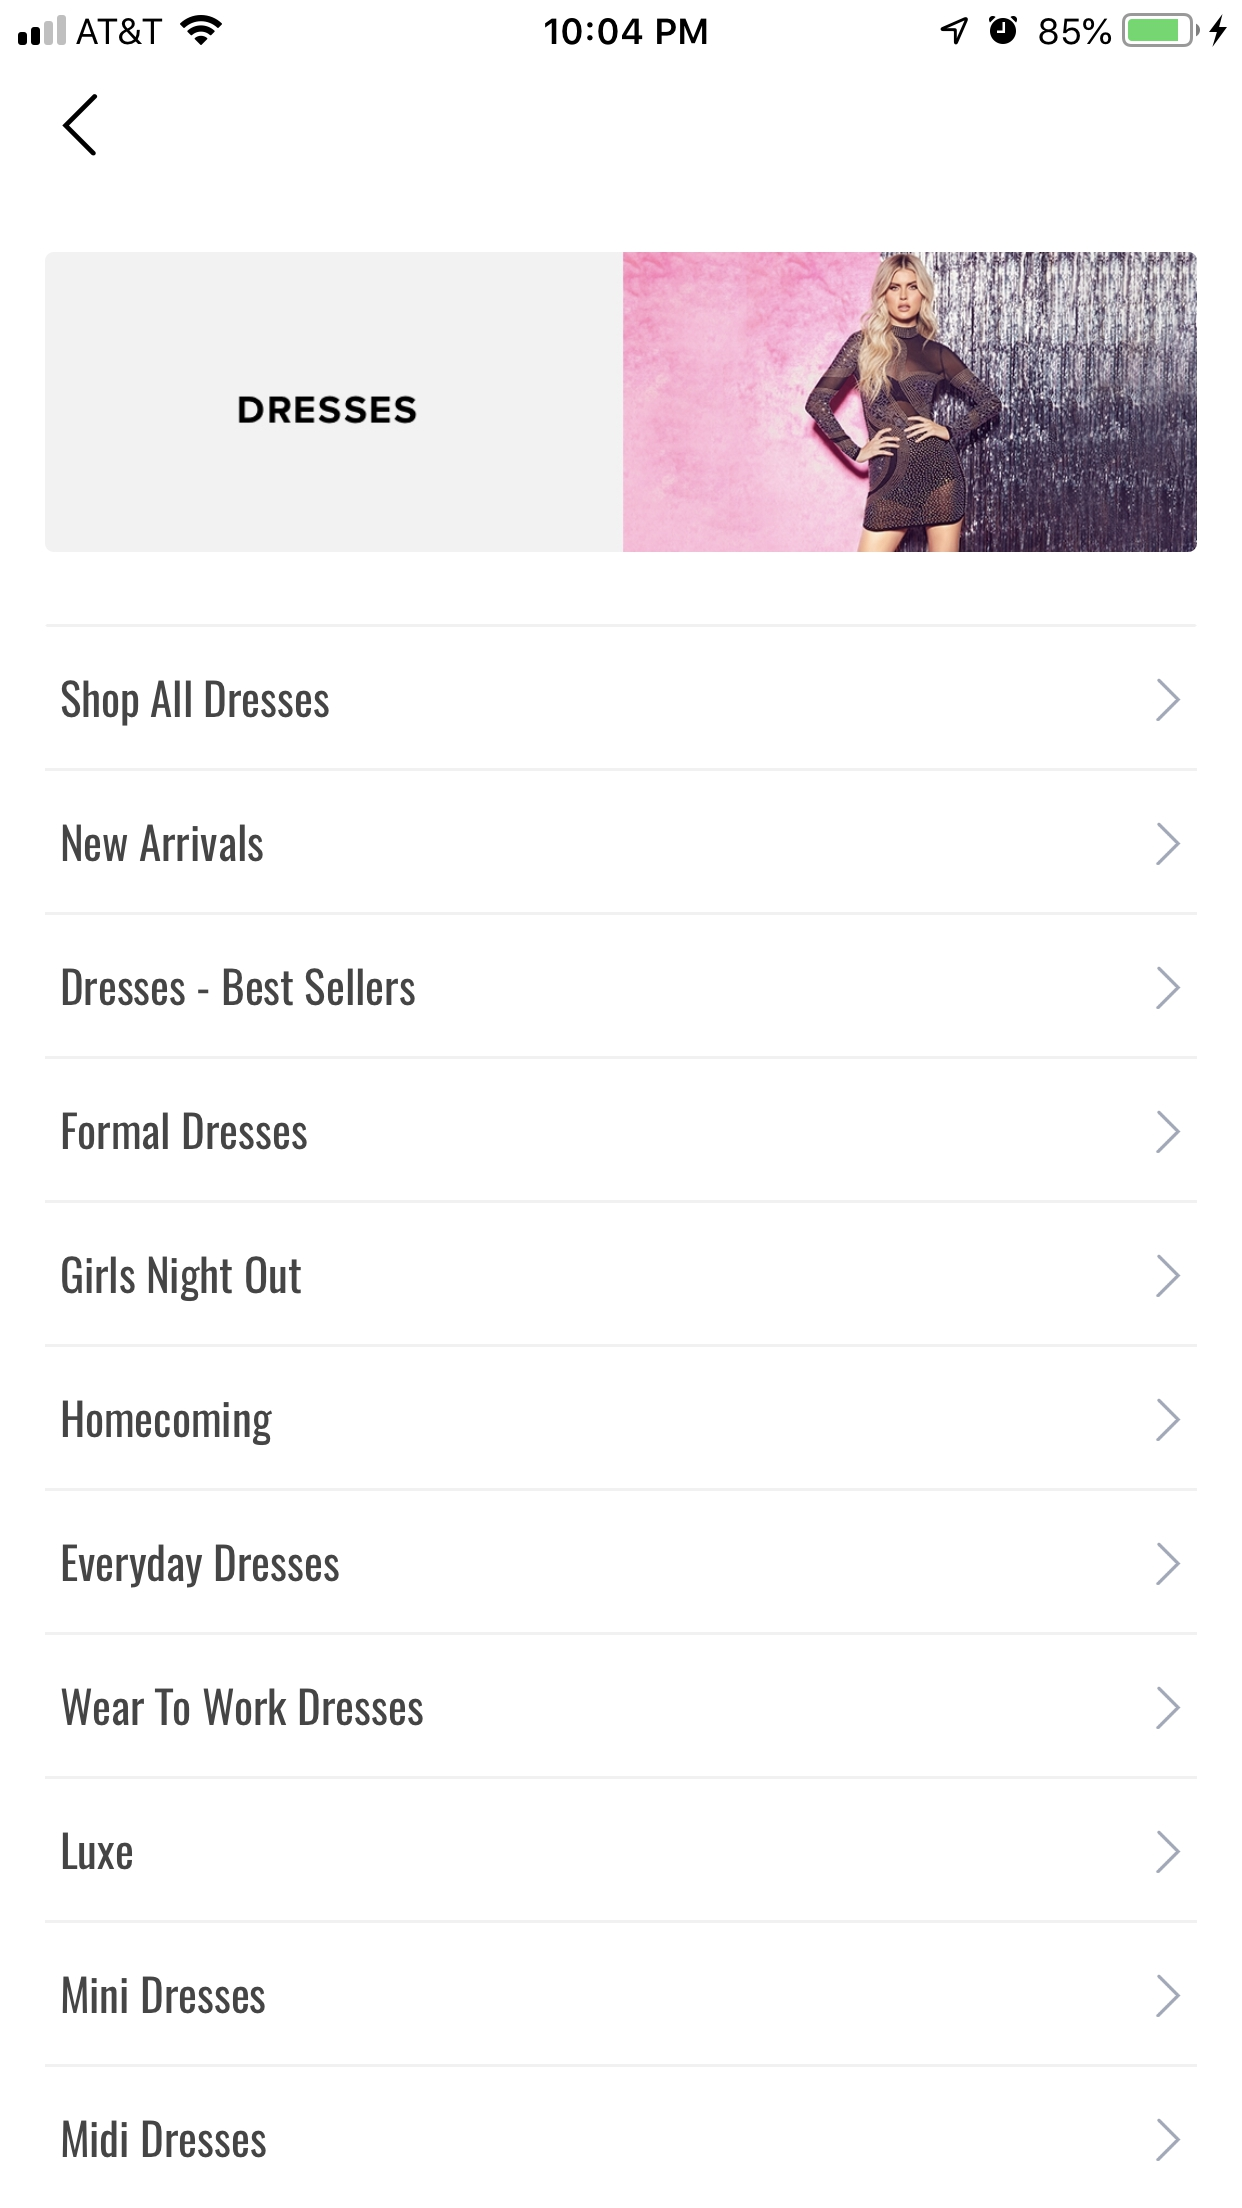Icon: (62, 94, 99, 158), (1156, 678, 1181, 722), (1156, 1110, 1181, 1154), (1156, 1542, 1181, 1586), (1156, 1686, 1181, 1730), (1156, 1830, 1181, 1874), (1156, 1974, 1181, 2018), (1156, 2119, 1181, 2163), (1156, 823, 1181, 866), (1156, 968, 1181, 1010), (1156, 1256, 1181, 1298), (1156, 1400, 1181, 1442)
Image: (623, 252, 1198, 554)
Text: (61, 1688, 425, 1727), (62, 968, 416, 1007), (64, 1542, 341, 1589), (62, 679, 331, 726), (62, 1256, 303, 1303), (64, 1400, 274, 1447), (62, 1112, 308, 1151), (64, 2119, 268, 2159), (64, 1974, 267, 2015), (64, 823, 265, 863), (238, 394, 417, 425), (64, 1830, 133, 1871)
UpperTaskBar: (2, 2, 1242, 49)
